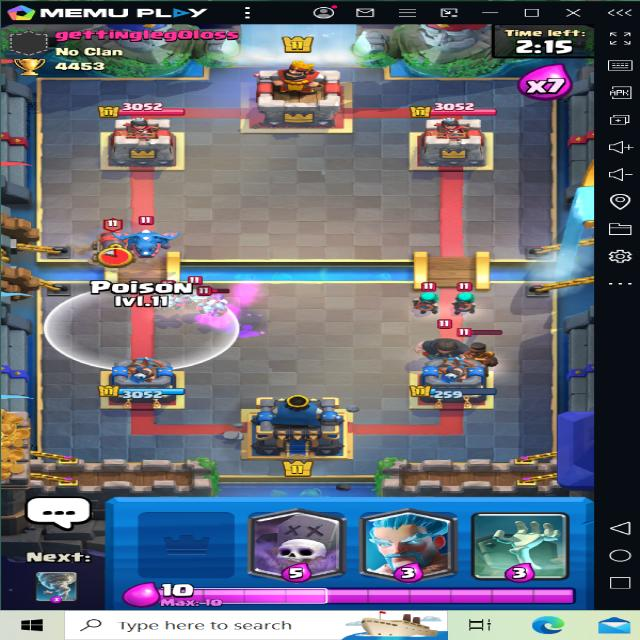cannon-cart: (88, 219, 136, 263)
electro-dragon: (114, 212, 178, 258)
minion: (179, 276, 212, 304), (153, 285, 185, 311), (200, 292, 229, 318)
ram-rider: (450, 325, 494, 369)
rascal-boy: (414, 322, 478, 359)
rascal-girl: (405, 282, 446, 312), (449, 279, 486, 309)
